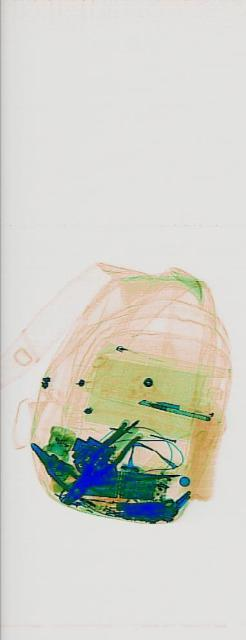Pliers: (61, 403, 141, 517), (27, 426, 84, 506)
